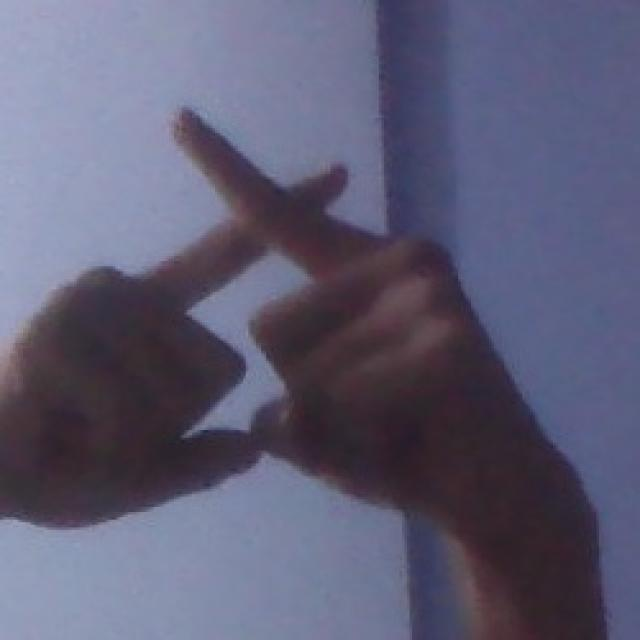Alphabet-X: (18, 94, 528, 570)
